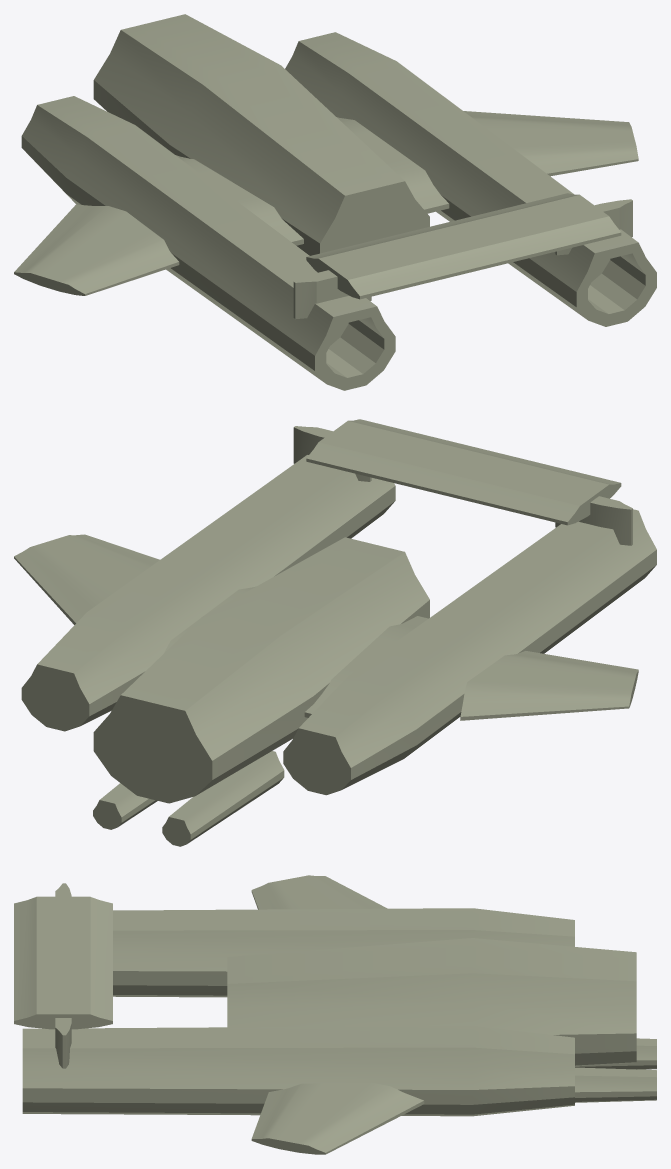
Rendered from vos_twin_boom.glb.
The picture shows the model from 3 angles, top to bottom: view 1: azimuth 30°, elevation 25°; view 2: azimuth 150°, elevation 25°; view 3: azimuth 270°, elevation 25°; orthographic projection. The views are drawn at different scales.
Visible parts, largest first — view 1: hull; view 2: hull; view 3: hull.
Boxes of the visible parts, bbox=[...] form: hull: bbox=[14, 14, 656, 390]; hull: bbox=[14, 419, 656, 846]; hull: bbox=[14, 875, 656, 1154].
Bounding box in the file's own units: 16 × 3.55 × 15.71.
